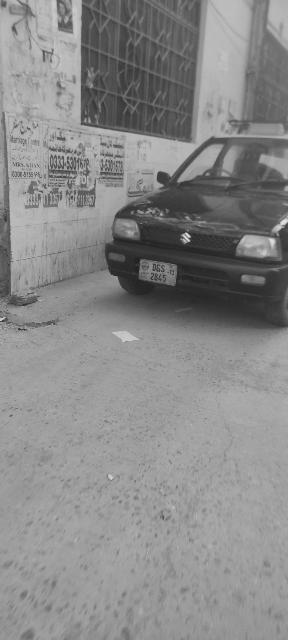Number: (148, 263, 168, 283)
